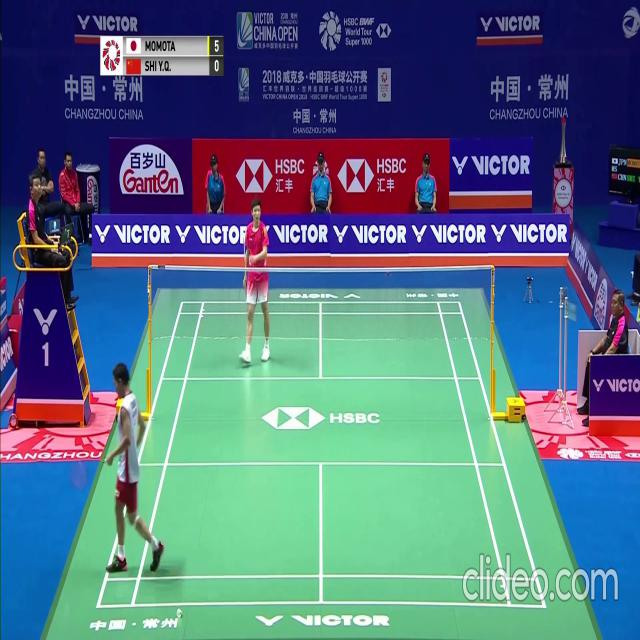Shuttlecock: (178, 610, 183, 617)
